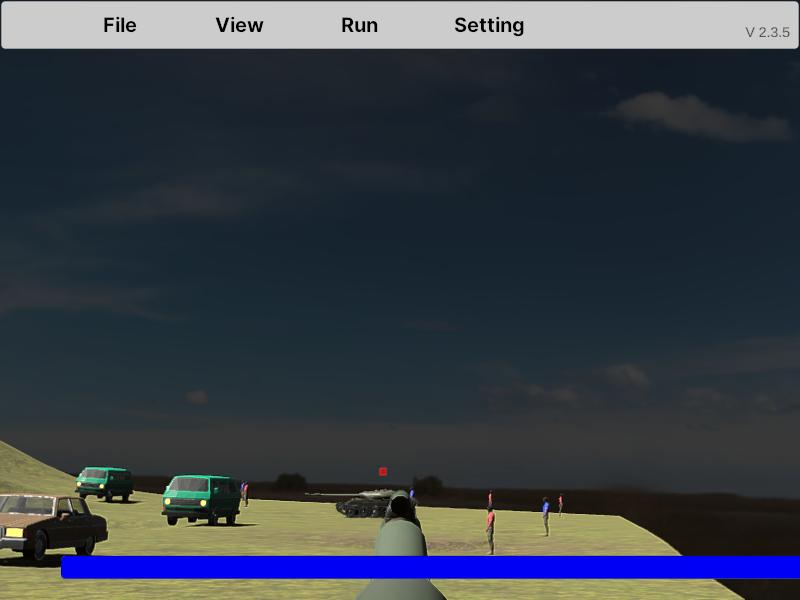Human: (485, 503, 496, 556)
Tank: (305, 488, 417, 519)
car: (0, 492, 108, 563), (162, 474, 241, 527), (76, 466, 134, 504)
